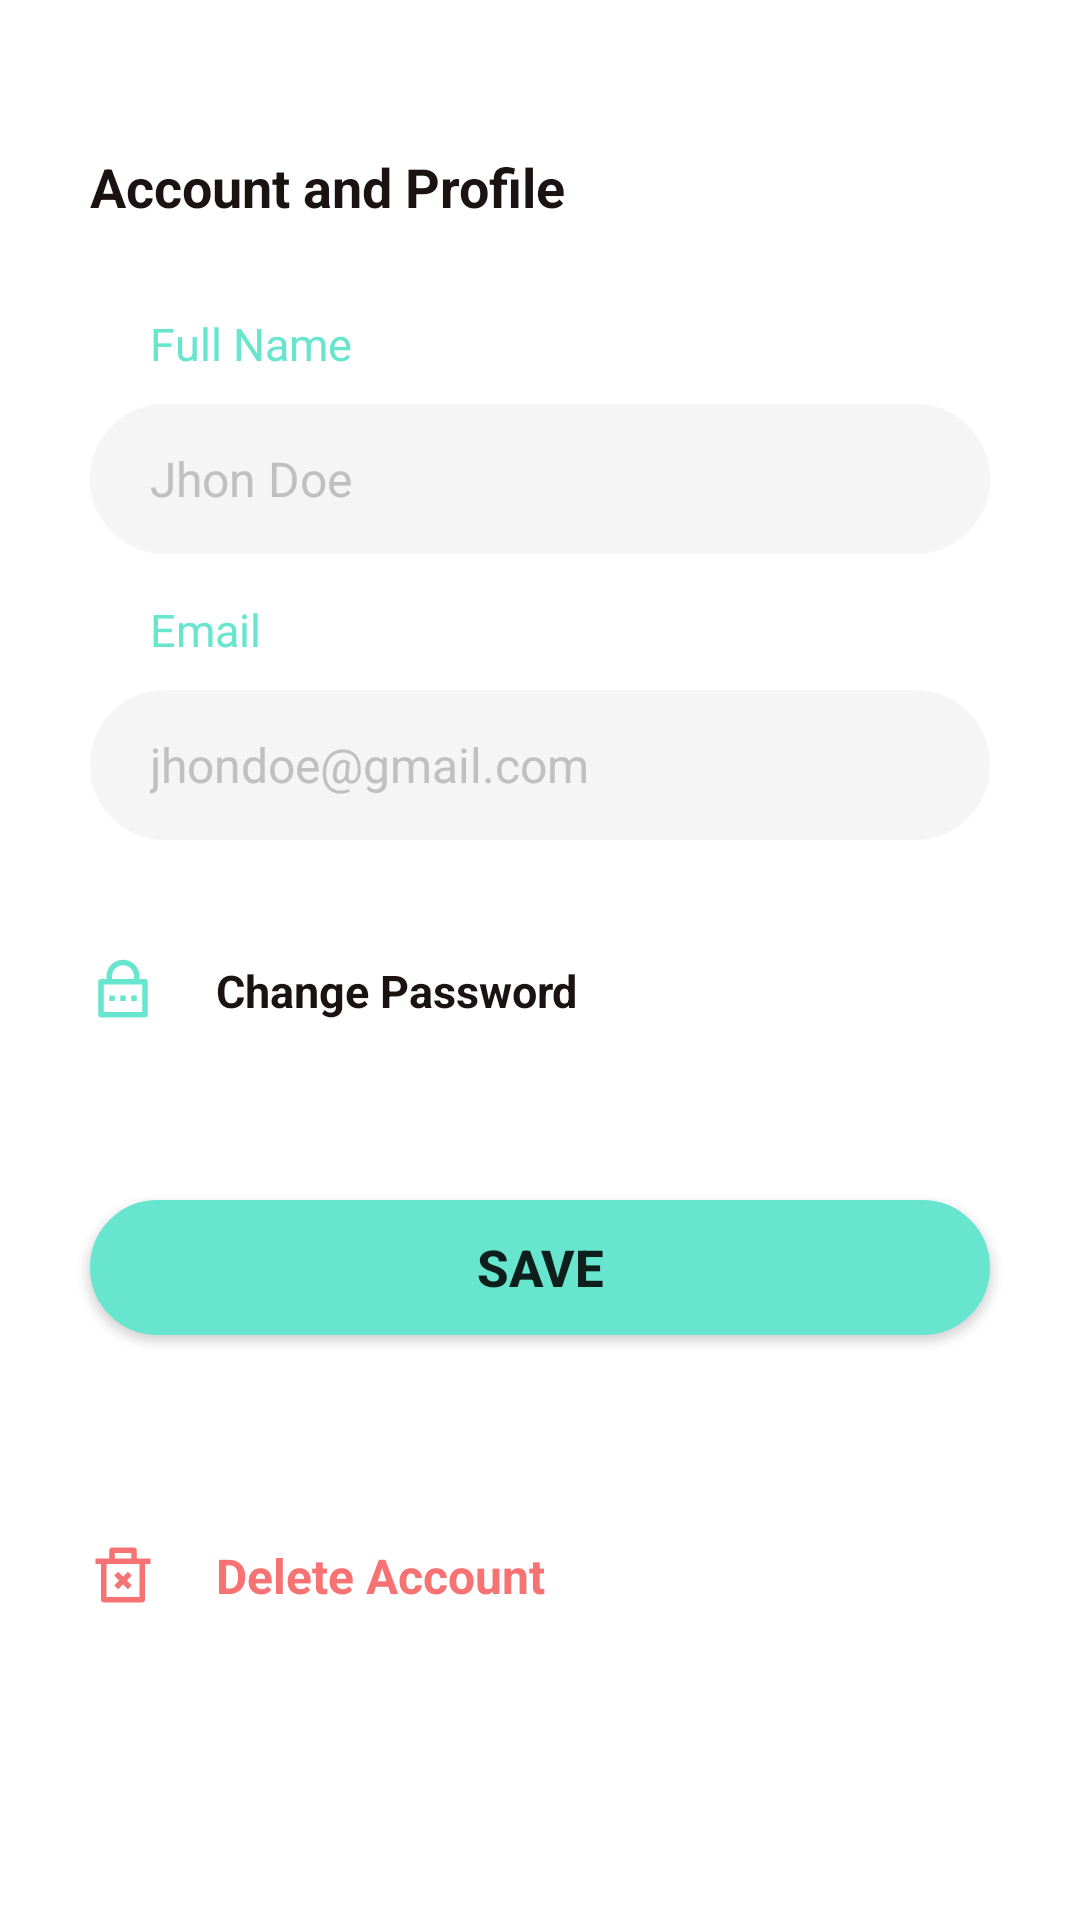

Screen size 1080px x 1920px. Icon name, then its box in pixels as (left=x1, top=y1, right=x2, bottom=y2):
trash: (left=95, top=1547, right=151, bottom=1603)
